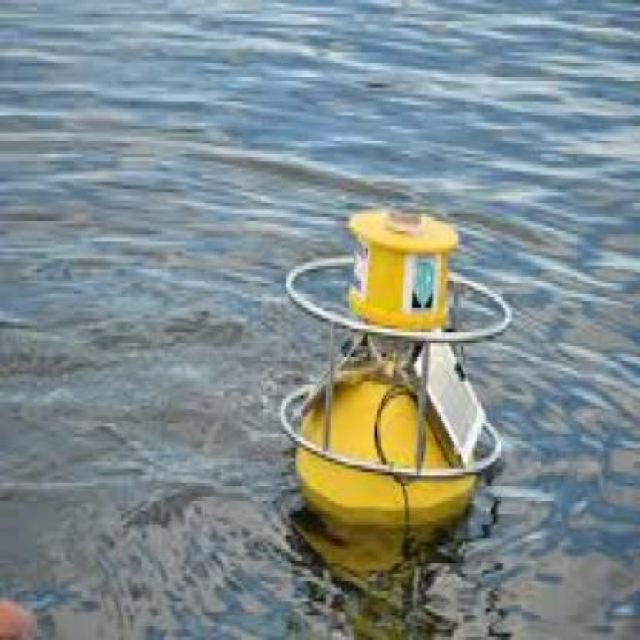buoy: (262, 172, 529, 578)
